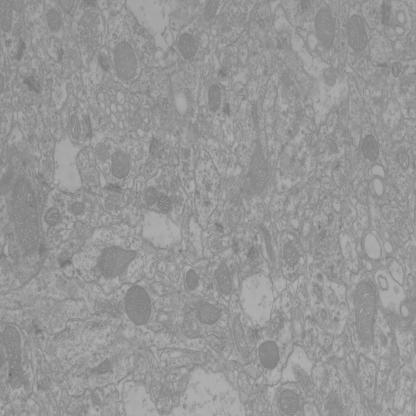mitochondria: (10, 172, 40, 255), (353, 279, 377, 350), (96, 243, 138, 279), (2, 323, 24, 389), (246, 138, 269, 198), (124, 284, 153, 326), (113, 40, 138, 82), (314, 6, 336, 50), (232, 314, 250, 360), (347, 13, 368, 52), (213, 261, 233, 296), (278, 388, 301, 416), (195, 302, 223, 325), (258, 340, 279, 370), (110, 148, 130, 179), (361, 134, 381, 164), (177, 32, 197, 60), (0, 0, 15, 34), (202, 0, 222, 24), (282, 240, 299, 268), (207, 82, 222, 112), (68, 113, 82, 142), (90, 359, 112, 377), (157, 192, 173, 214), (47, 9, 62, 32), (43, 208, 62, 226), (143, 186, 159, 207), (185, 268, 199, 291), (94, 141, 109, 162), (70, 201, 85, 217)
